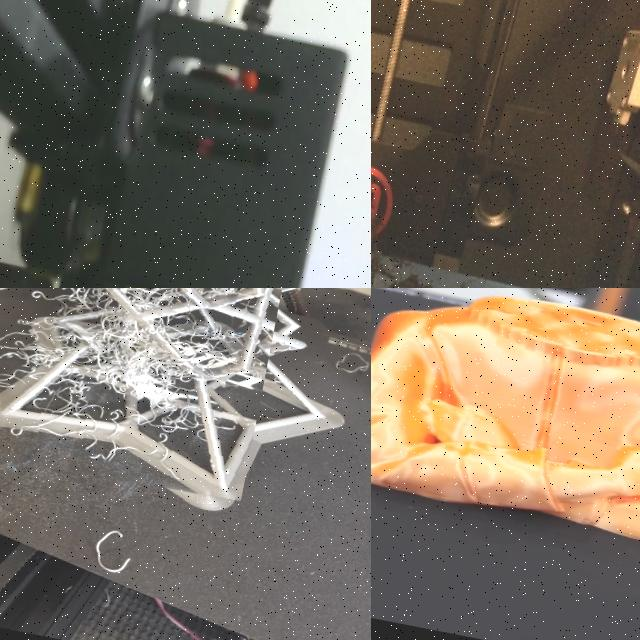spaghetti: (0, 288, 286, 509)
